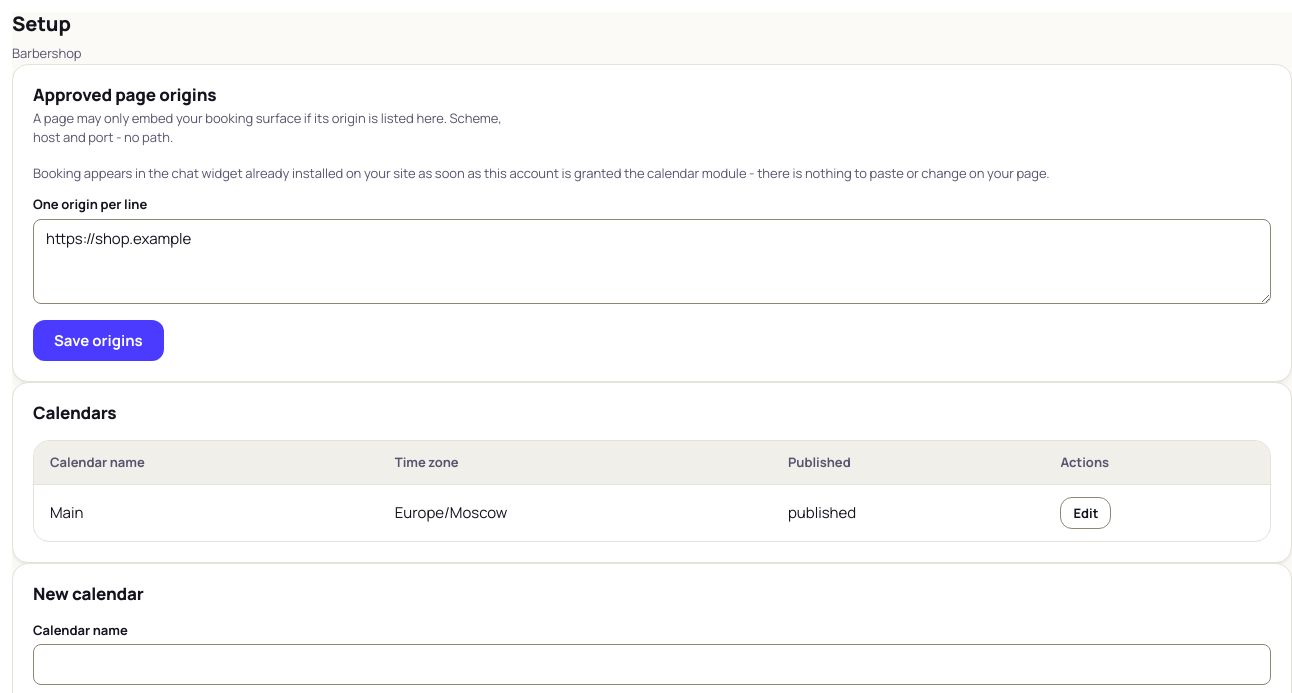
Test: the tenant setup screen › shows the server's own rejection instead of pretending the write worked
Click the button "Save origins" at (98, 341), box [33,320,164,361]
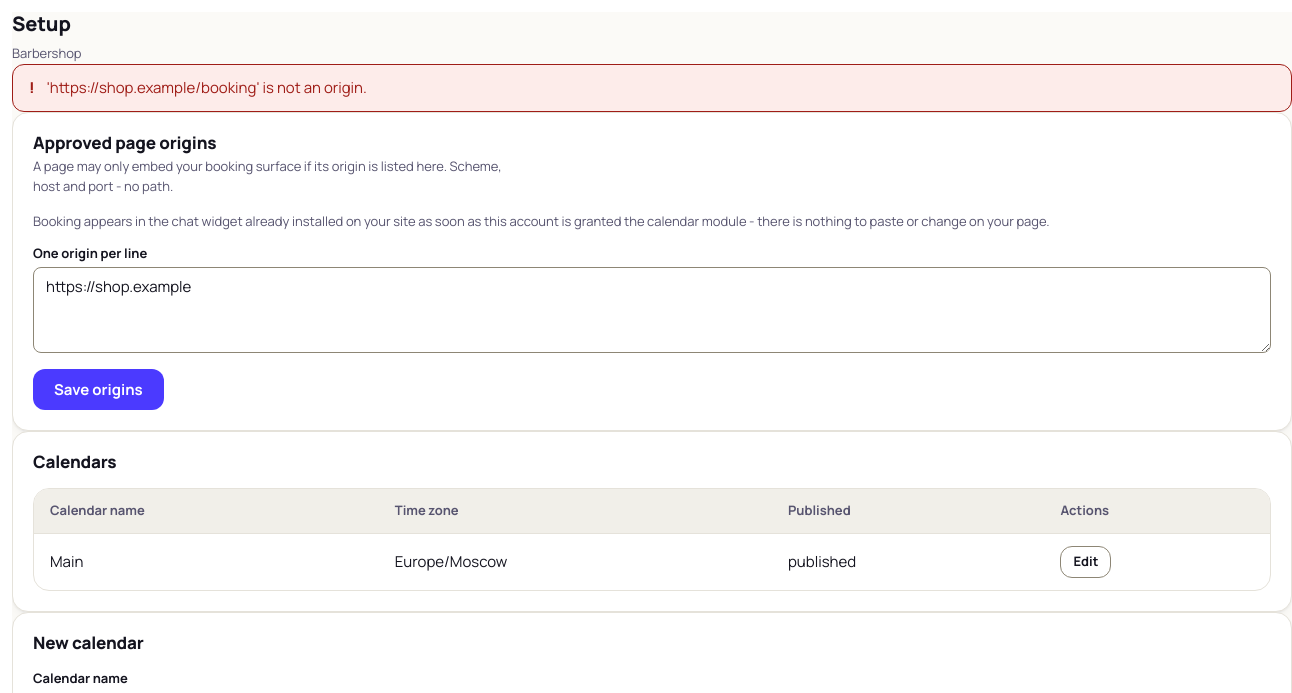
Now the text "'https://shop.example/booking' is not an origin." is shown, box [47,76,367,99]
